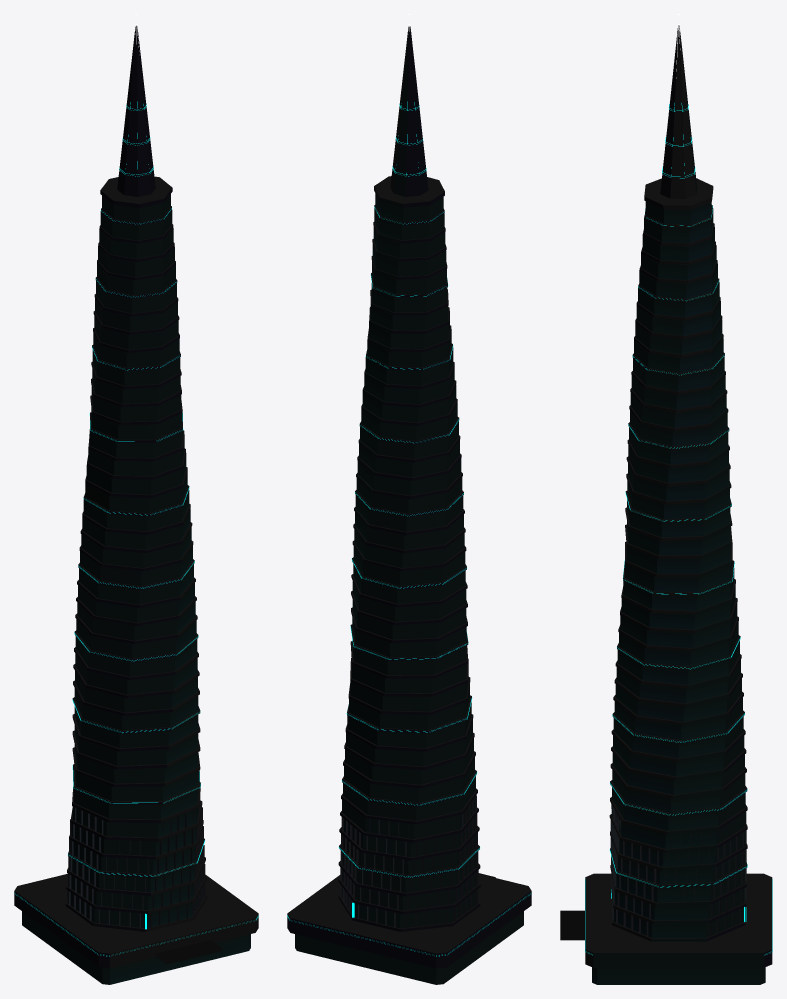
File: sc-tower-spire-lod2.glb
3 views of the same model, side by side, from view 1: azimuth 30°, elevation 25°; view 2: azimuth 150°, elevation 25°; view 3: azimuth 270°, elevation 25° (orthographic).
Parts seen in each view (by area): view 1: shaddai_tower_spire_f26.001; view 2: shaddai_tower_spire_f26.001; view 3: shaddai_tower_spire_f26.001.
Part boxes in pixels (x1,y1,x2,y2): shaddai_tower_spire_f26.001: [14, 14, 258, 984]; shaddai_tower_spire_f26.001: [287, 14, 531, 984]; shaddai_tower_spire_f26.001: [560, 14, 772, 984].
Bounding box in the file's own units: 34.08 × 187 × 38.54.
